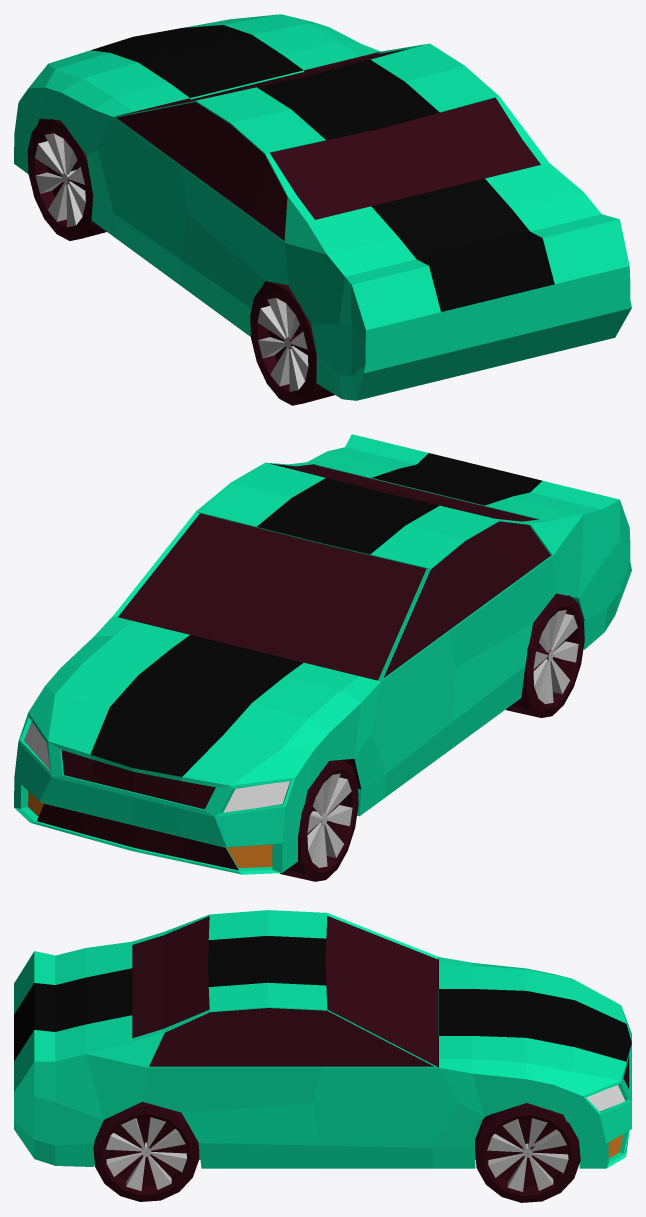
File: Car2.1.fbx
The picture shows the model from 3 angles, top to bottom: view 1: azimuth 30°, elevation 25°; view 2: azimuth 150°, elevation 25°; view 3: azimuth 270°, elevation 25°; orthographic projection. The views are drawn at different scales.
Parts seen in each view (by area): view 1: Cube, Cube.003, Cube.004; view 2: Cube, Cube.003, Cube.004; view 3: Cube, Cube.001, Cube.002.
Part boxes in pixels (box(x1,y1,x2,y2)): Cube: box(14, 14, 631, 400); Cube.003: box(250, 283, 334, 405); Cube.004: box(27, 119, 106, 240); Cube: box(14, 434, 631, 874); Cube.003: box(506, 593, 584, 717); Cube.004: box(280, 759, 358, 881); Cube: box(14, 910, 631, 1168); Cube.001: box(475, 1103, 580, 1202); Cube.002: box(93, 1102, 199, 1201).
Size of the model in its own units: 193 by 145 by 435.
